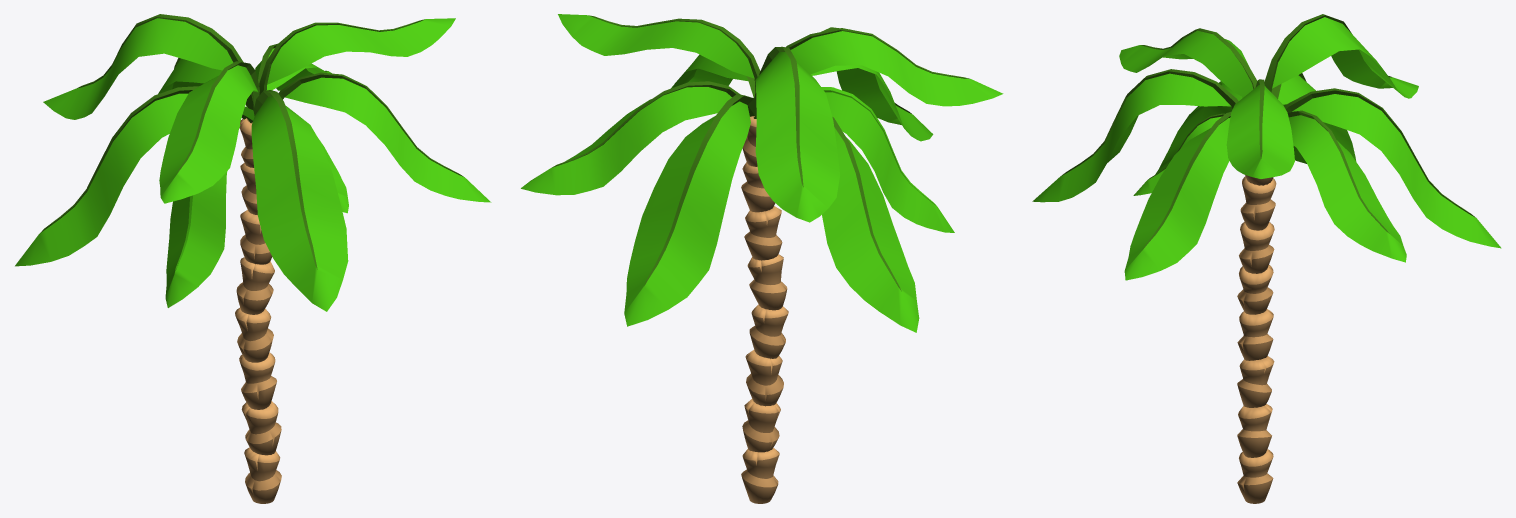
File: PalmePlaceHolder.fbx
The picture shows the model from 3 angles, left to right: view 1: azimuth 30°, elevation 25°; view 2: azimuth 150°, elevation 25°; view 3: azimuth 270°, elevation 25°; orthographic projection. The views are drawn at different scales.
Parts seen in each view (by area): view 1: PalmeKrone, PalmeStamme; view 2: PalmeKrone, PalmeStamme; view 3: PalmeKrone, PalmeStamme.
Boxes of the visible parts, x1=… form: PalmeKrone: x1=15, y1=14, x2=491, y2=311; PalmeStamme: x1=235, y1=118, x2=281, y2=503; PalmeKrone: x1=521, y1=14, x2=1003, y2=332; PalmeStamme: x1=741, y1=116, x2=788, y2=503; PalmeKrone: x1=1032, y1=14, x2=1501, y2=280; PalmeStamme: x1=1237, y1=175, x2=1276, y2=503.
Size of the model in its own units: 436 by 499 by 468.
